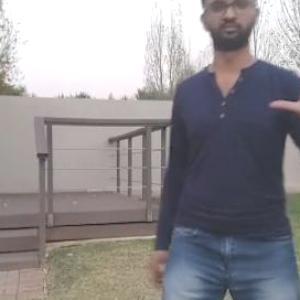land_hand: (266, 41, 299, 134)
